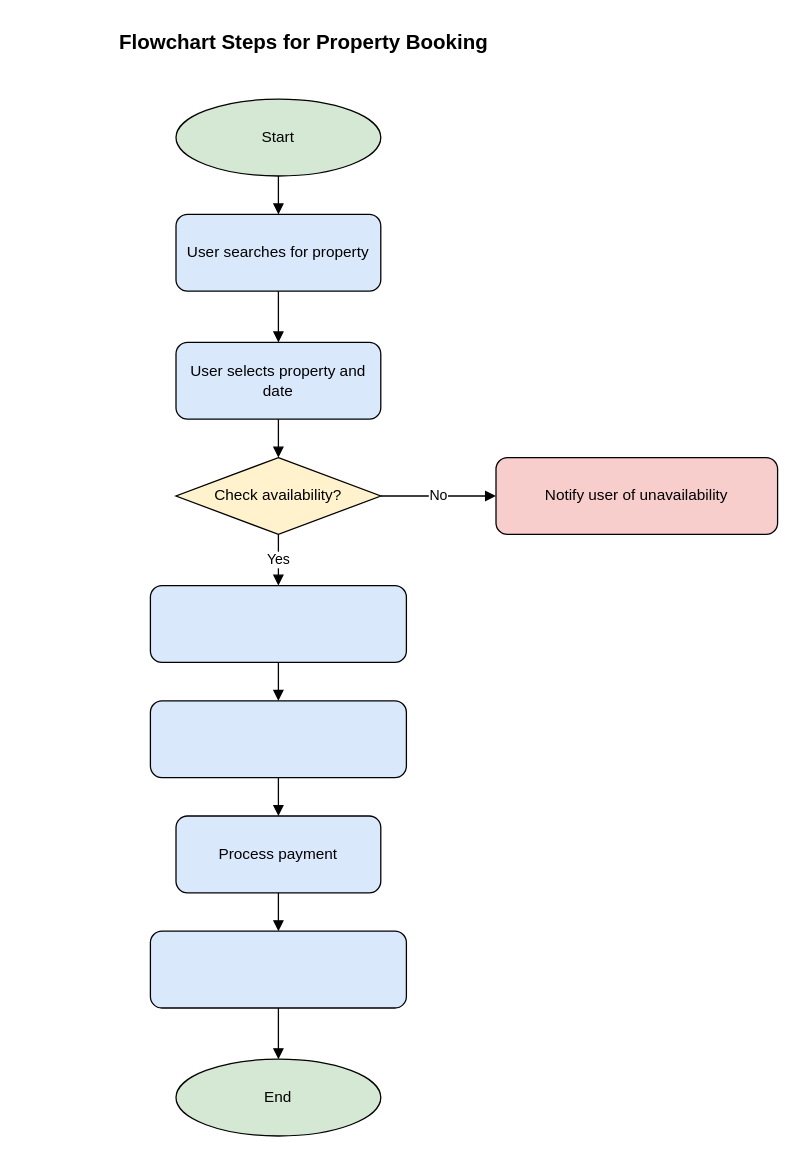
Image size: 800x1158. Some labels were removed from this diagram. The centre of each missing label's shape, as x and y in pixels:
"Confirm booking and save to DB" goes at point (277, 623).
"Redirect to payment gateway" goes at point (277, 739).
"Send confirmation to user" goes at point (277, 969).
